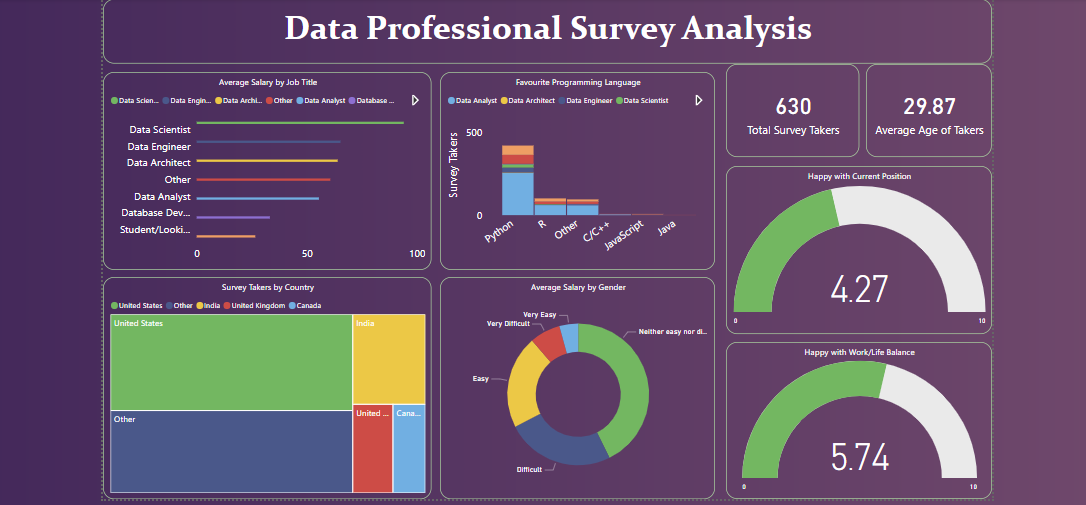

The dashboard page shown, as its layout file describes it:
{"tool":"powerbi","page":{"name":"Page 1","canvas":[1280,720],"ordinal":0},"visuals":[{"type":"textbox","box":[0,0,1280,93.3],"z":0},{"type":"card","fields":{"Values":["CountNonNull(Data Professional Survey.Unique ID)"]},"box":[897.1,93.6,191.5,133.9],"z":1},{"type":"card","fields":{"Values":["Avg(Data Professional Survey.Q10 - Current Age)"]},"box":[1098.7,93.6,181.4,133.9],"z":2},{"type":"clusteredBarChart","title":"Average Salary by Job Title","fields":{"Y":["Avg(Data Professional Survey.Average Salary)"],"Category":["Data Professional Survey.Q1 - Which Title Best Fits your Current Role?.1"],"Series":["Data Professional Survey.Q1 - Which Title Best Fits your Current Role?.1"]},"box":[0,105,473.3,285],"z":3},{"type":"treemap","fields":{"Values":["CountNonNull(Data Professional Survey.Unique ID)"],"Group":["Data Professional Survey.Q11 - Which Country do you live in?.1"]},"box":[0,400,473.3,320],"z":4},{"type":"columnChart","title":"Favourite Programming Language","fields":{"Category":["Data Professional Survey.Q5 - Favorite Programming Language.1"],"Y":["CountNonNull(Data Professional Survey.Unique ID)"],"Series":["Data Professional Survey.Q1 - Which Title Best Fits your Current Role?.1"]},"box":[485.7,104.6,396.3,285],"z":5},{"type":"gauge","title":"Happy with Current Position","fields":{"Y":["Avg(Data Professional Survey.Q6 - How Happy are you in your Current Position with the following? (Salary))"],"MaxValue":["Max(Data Professional Survey.Q6 - How Happy are you in your Current Position with the following? (Salary))"],"MinValue":["Min(Data Professional Survey.Q6 - How Happy are you in your Current Position with the following? (Salary))"]},"box":[897.1,240.5,383,241.9],"z":6},{"type":"gauge","title":"Happy with Work/Life Balance","fields":{"Y":["Avg(Data Professional Survey.Q6 - How Happy are you in your Current Position with the following? (Work/Life Balance))"],"MinValue":["Min(Data Professional Survey.Q6 - How Happy are you in your Current Position with the following? (Work/Life Balance))"],"MaxValue":["Max(Data Professional Survey.Q6 - How Happy are you in your Current Position with the following? (Work/Life Balance))"]},"box":[897.1,493.9,383,226.1],"z":7},{"type":"donutChart","title":"Average Salary by Gender","fields":{"Category":["Data Professional Survey.Q7 - How difficult was it for you to break into Data?"],"Y":["CountNonNull(Data Professional Survey.Q7 - How difficult was it for you to break into Data?)"]},"box":[485.7,399.7,396.3,320.4],"z":8}]}

Visuals, with their boxes in screenshot pixels (x1, y1, x2, y2):
textbox: x1=99 y1=0 x2=987 y2=59
card - CountNonNull(Data Professional Survey.Unique ID): x1=721 y1=59 x2=854 y2=152
card - Avg(Data Professional Survey.Q10 - Current Age): x1=861 y1=59 x2=987 y2=152
"Average Salary by Job Title" clusteredBarChart: x1=99 y1=67 x2=427 y2=265
treemap - CountNonNull(Data Professional Survey.Unique ID) x Data Professional Survey.Q11 - Which Country do you live in?.1: x1=99 y1=272 x2=427 y2=494
"Favourite Programming Language" columnChart: x1=436 y1=67 x2=711 y2=264
"Happy with Current Position" gauge: x1=721 y1=161 x2=987 y2=329
"Happy with Work/Life Balance" gauge: x1=721 y1=337 x2=987 y2=494
"Average Salary by Gender" donutChart: x1=436 y1=271 x2=711 y2=494
